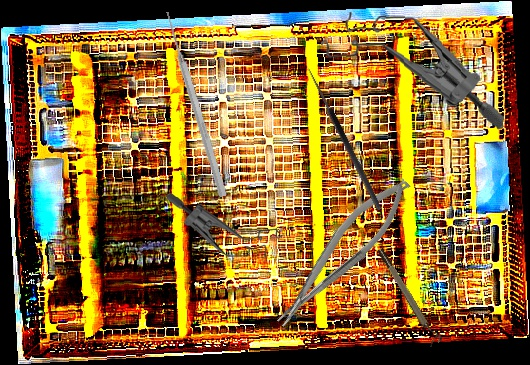Fixation Ring: (375, 244, 444, 348)
Hook Surgical: (298, 66, 384, 215)
Needle Holder: (261, 168, 423, 335)
Pusher: (161, 9, 230, 199)
Speculum: (317, 9, 509, 130), (166, 189, 284, 261)
